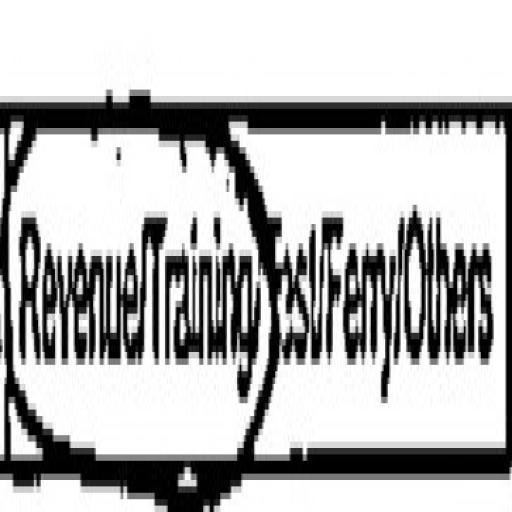check: (0, 36, 141, 512), (142, 25, 260, 512)
